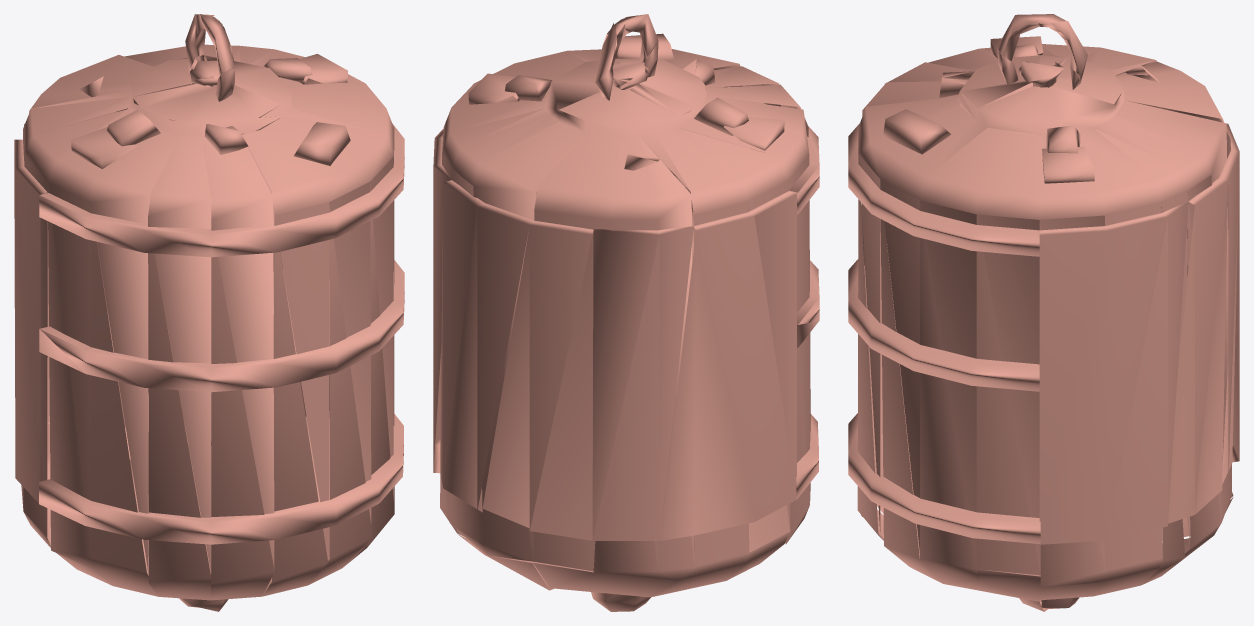
Rendered from loc_cc_prop_buoy.glb.
The picture shows the model from 3 angles, left to right: view 1: azimuth 30°, elevation 25°; view 2: azimuth 150°, elevation 25°; view 3: azimuth 270°, elevation 25°; orthographic projection.
Visible parts, largest first — view 1: loc_cc_prop_buoy; view 2: loc_cc_prop_buoy; view 3: loc_cc_prop_buoy.
Boxes of the visible parts, box(x1,y1,x2,y2) form: loc_cc_prop_buoy: box(14, 14, 404, 611); loc_cc_prop_buoy: box(433, 14, 819, 611); loc_cc_prop_buoy: box(848, 14, 1239, 611).
Bounding box in the file's own units: 0.9088 × 1.5 × 0.8971.
